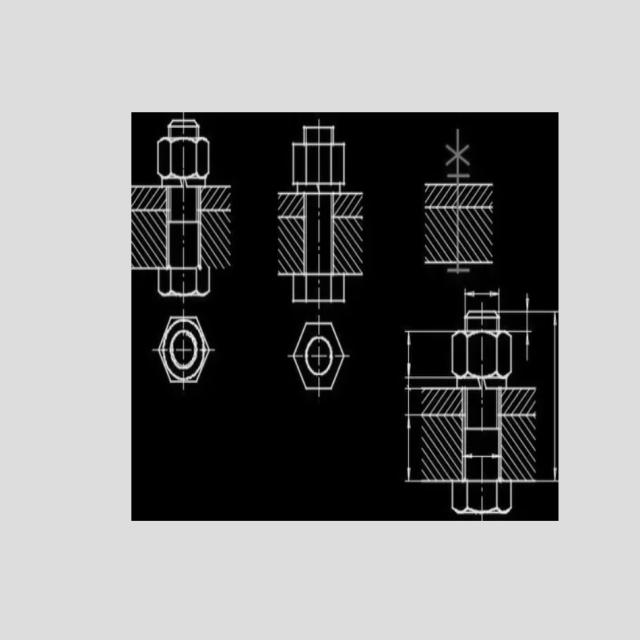marking_line: (536, 309, 558, 484), (404, 330, 451, 379), (513, 292, 534, 365), (404, 412, 420, 483), (463, 288, 501, 310), (464, 452, 498, 461)
